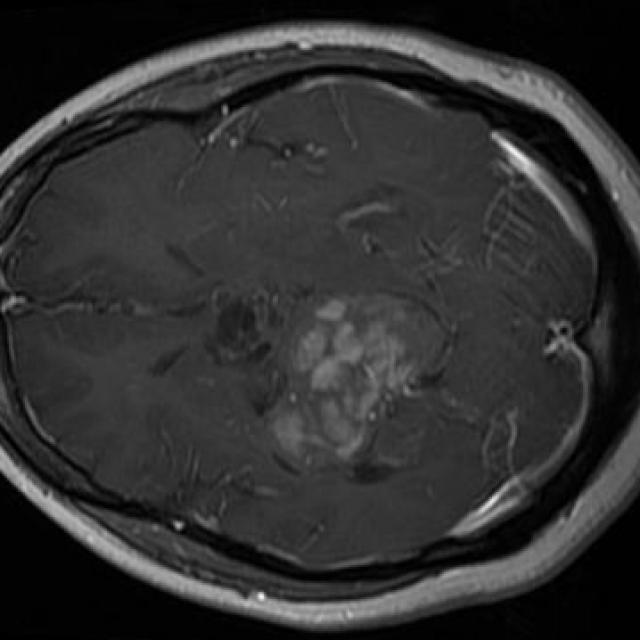glioma: (275, 294, 447, 467)
